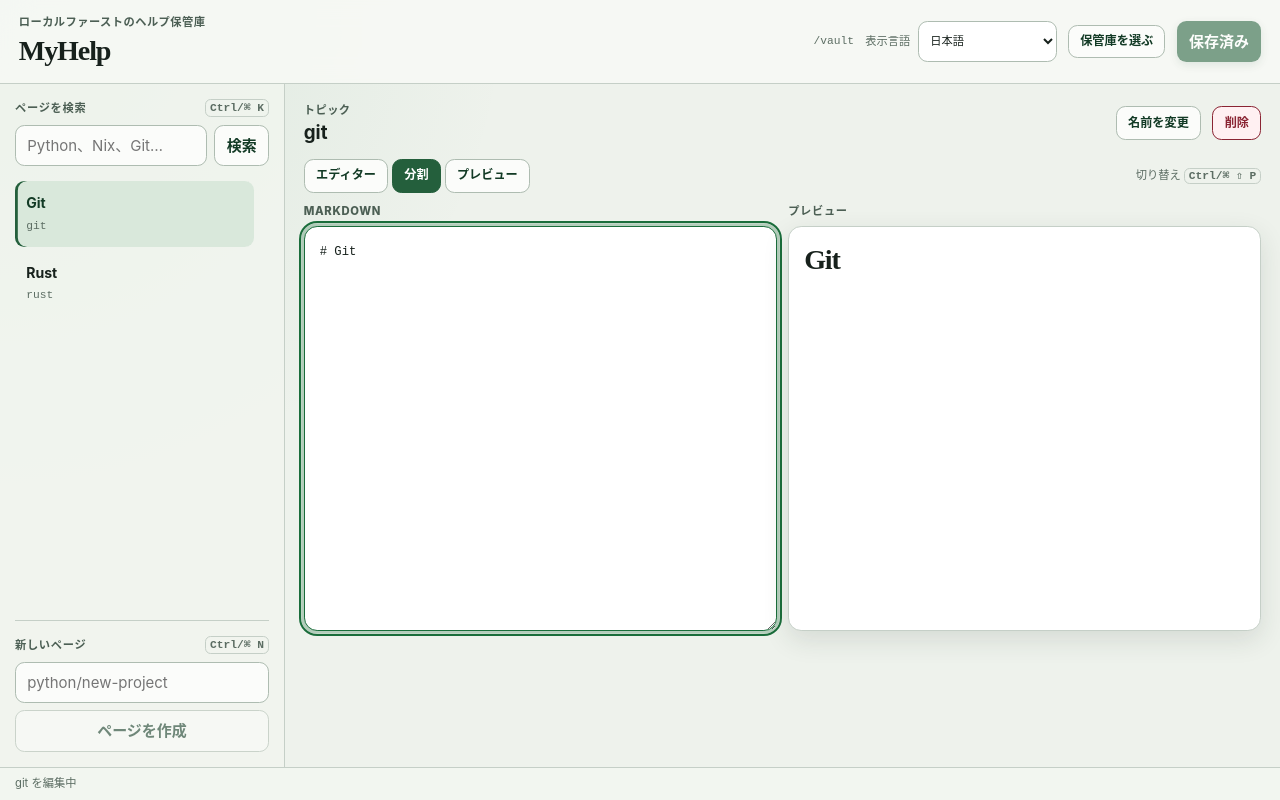
it: localized desktop editor › covers the primary workflow in Japanese without English leftovers
Expected: the message reads "git を編集中", [15,776,76,790]
In the text box named "git を編集": (540, 428) [304,226,777,630], type "下書き"
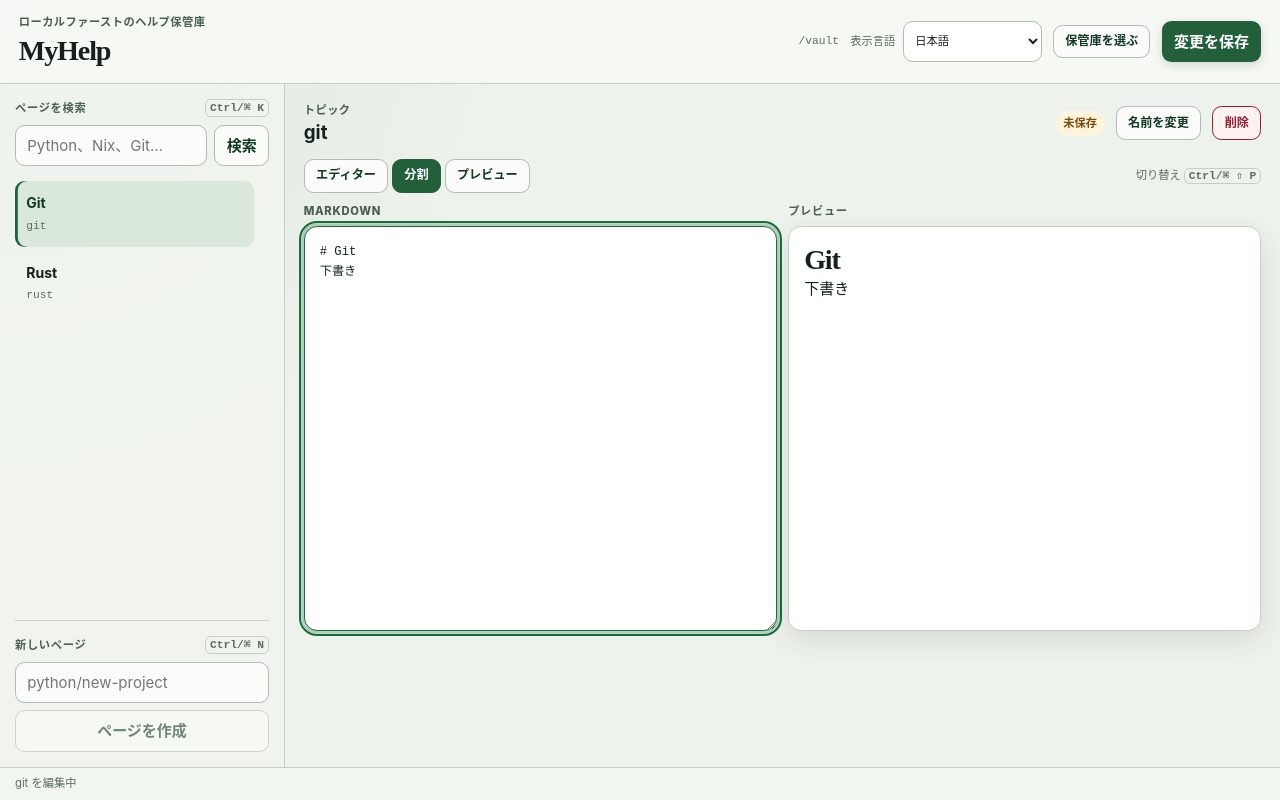
Click the button with aria-label "rust を開く": (134, 283) [15,250,254,316]
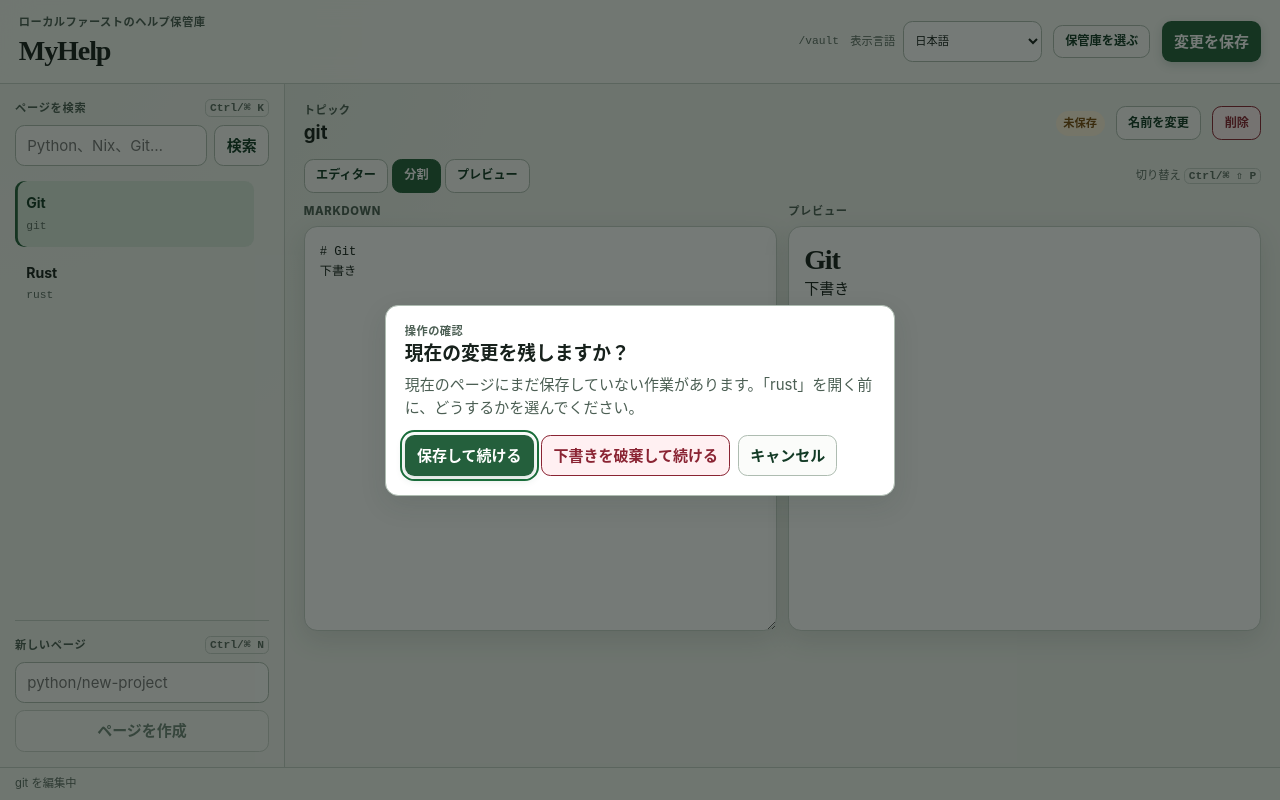
Result: the dialog "現在の変更を残しますか？" shows "「rust」を開く前に" at [405,375,872,417]
Click the button "下書きを破棄して続ける": (636, 455) [541,434,730,476]
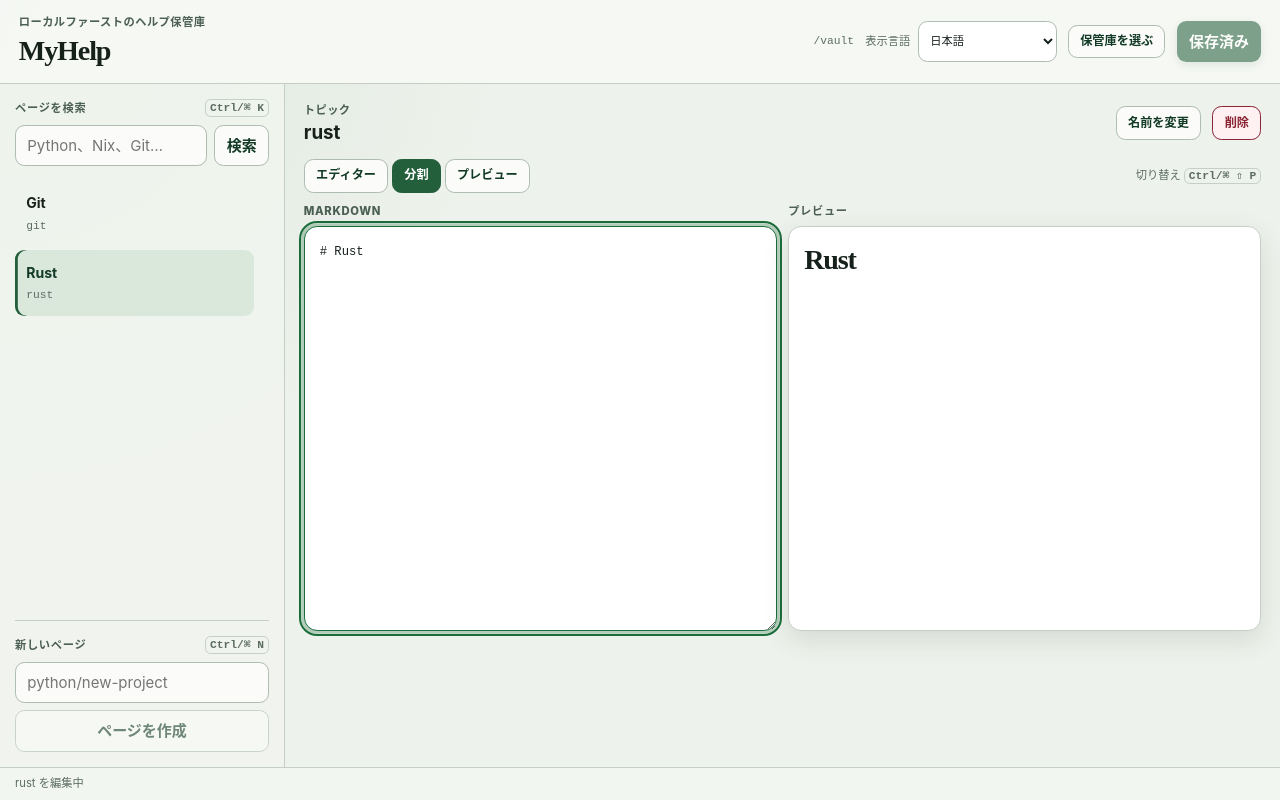
Result: the text box named "rust を編集" is shown at [304,226,777,630]
Click the button "削除": (1237, 123) [1212,106,1261,140]
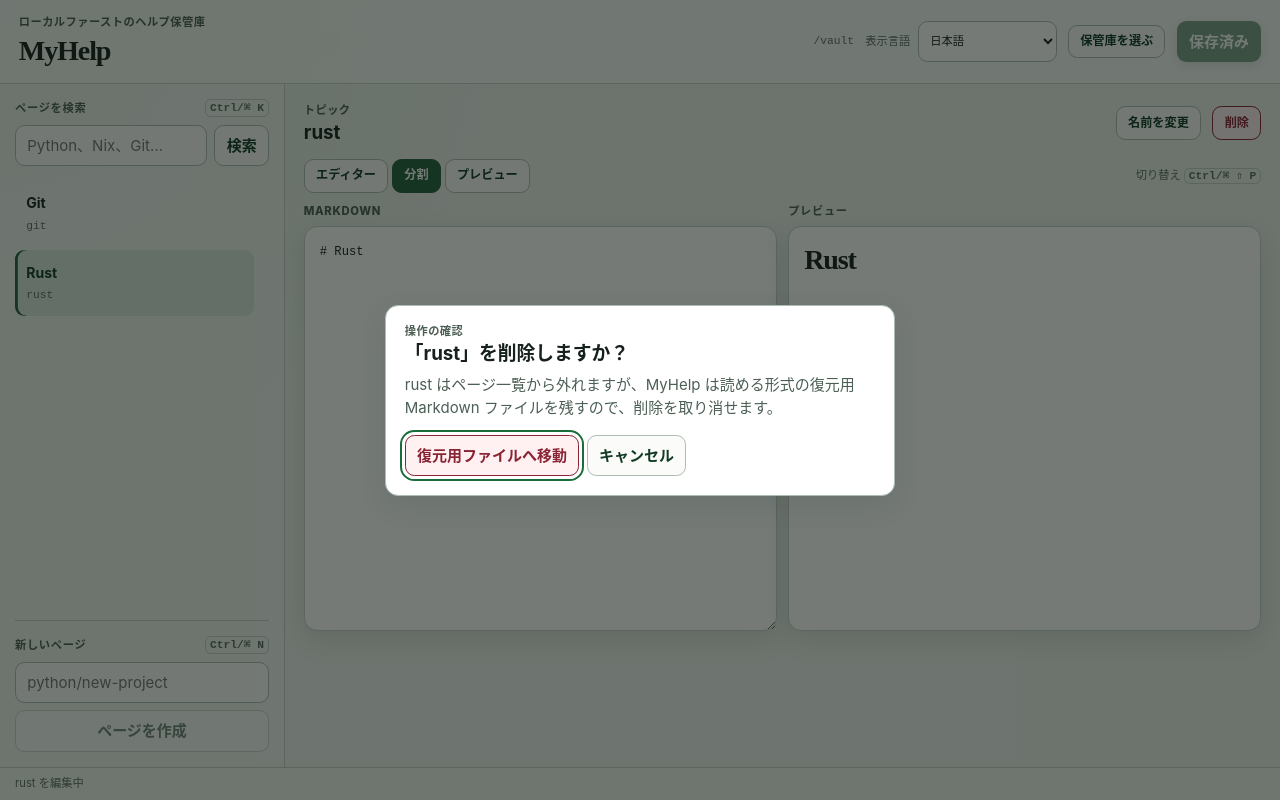
Result: the dialog "「rust」を削除しますか？" is shown at [385,304,895,496]
Click the button "復元用ファイルへ移動": (492, 455) [405,434,579,476]
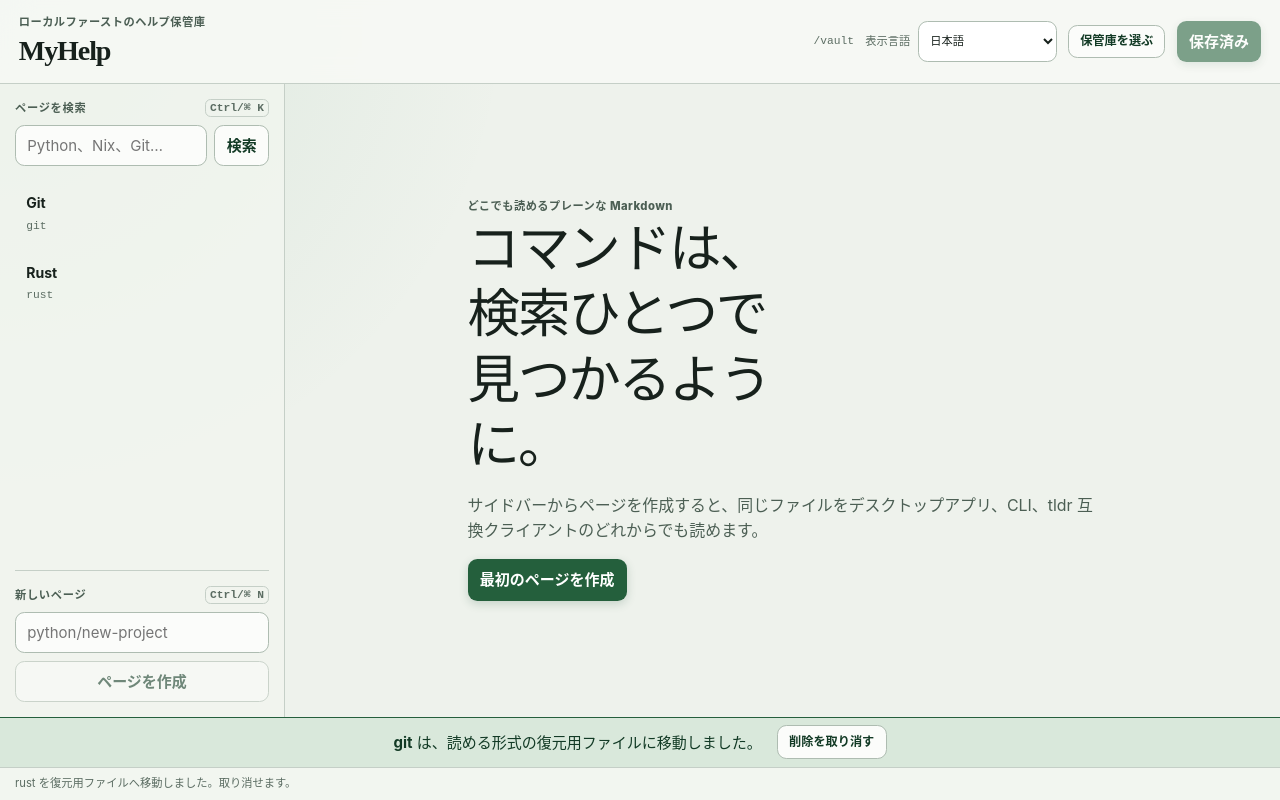
Result: the button "削除を取り消す" is shown at [777,725,886,759]
Result: the message reads "rust を復元用ファイルへ移動しました。取り消せます。" at [15,776,296,790]
